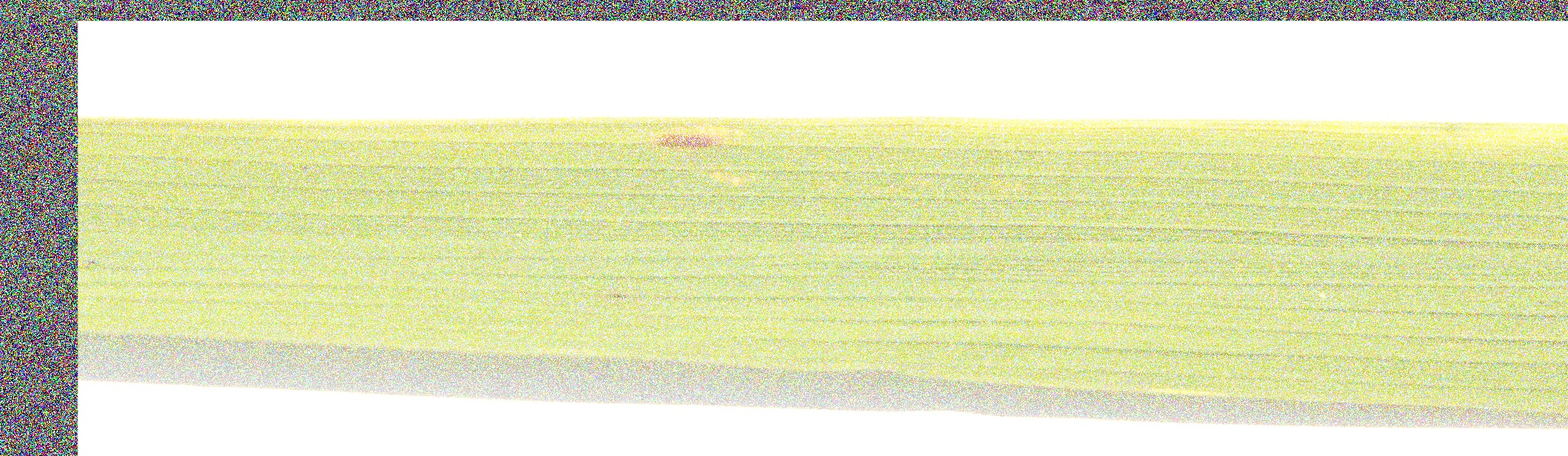Bacterial_Leaf_Blight: (615, 122, 751, 171)
